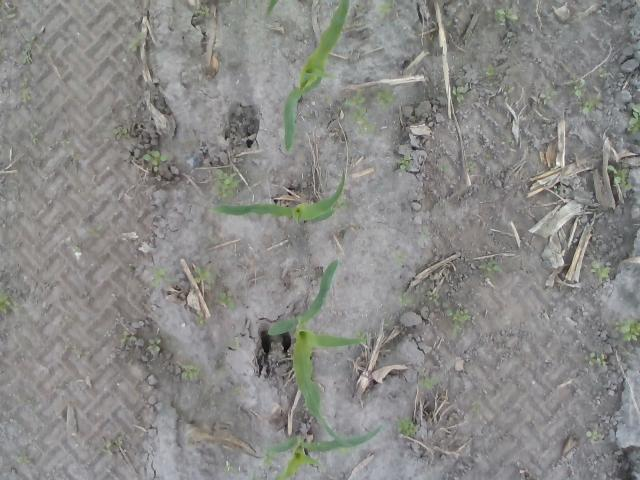Maize: (264, 258, 369, 450), (282, 0, 350, 152), (204, 169, 347, 226), (262, 425, 382, 480), (266, 0, 276, 19)
Weeds: (342, 90, 377, 136), (210, 168, 240, 202), (371, 84, 400, 112), (607, 164, 632, 192), (143, 147, 171, 172), (447, 308, 472, 336), (614, 317, 640, 343), (479, 256, 504, 281), (575, 93, 604, 114), (192, 262, 216, 286), (148, 266, 172, 289), (583, 259, 609, 280), (0, 287, 18, 317), (19, 34, 36, 65), (215, 290, 238, 312), (450, 82, 472, 104), (374, 0, 398, 20), (424, 288, 448, 308), (626, 102, 640, 134), (540, 86, 560, 108), (394, 416, 416, 436), (100, 436, 123, 455), (568, 78, 590, 97), (494, 8, 520, 24), (416, 373, 441, 389), (182, 360, 200, 381), (111, 128, 137, 142), (584, 352, 608, 366), (398, 288, 418, 304), (479, 63, 496, 81), (55, 128, 72, 146), (128, 31, 144, 48), (146, 335, 161, 352), (17, 84, 32, 101), (87, 224, 105, 238), (398, 154, 412, 172), (502, 29, 514, 49), (585, 430, 604, 442), (471, 400, 482, 418), (195, 4, 211, 16), (334, 197, 348, 209), (352, 328, 368, 338), (598, 65, 608, 80), (230, 336, 242, 348), (15, 456, 33, 464), (6, 7, 18, 19), (394, 254, 406, 265), (481, 151, 494, 161), (120, 330, 129, 344), (502, 84, 512, 96), (31, 128, 38, 145), (501, 135, 512, 145), (262, 454, 272, 465), (419, 230, 430, 240), (224, 462, 234, 472), (338, 447, 352, 454), (195, 315, 204, 325), (439, 163, 449, 172), (464, 160, 474, 168), (328, 137, 337, 145), (233, 387, 241, 395), (384, 318, 390, 328), (554, 184, 560, 194), (72, 246, 80, 252), (0, 0, 5, 7)
